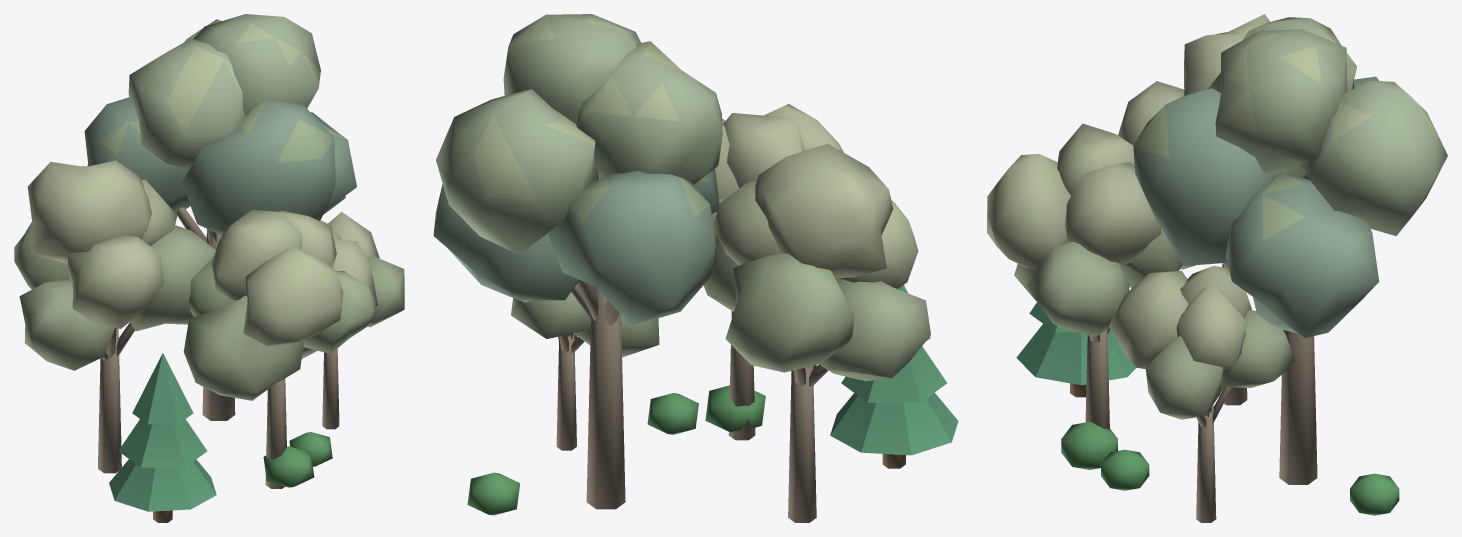
Rendered from terrain-forest-3.glb.
3 views of the same model, side by side, from view 1: azimuth 30°, elevation 25°; view 2: azimuth 150°, elevation 25°; view 3: azimuth 270°, elevation 25° (orthographic). The views are drawn at different scales.
Parts seen in each view (by area): view 1: terrain-forest-3; view 2: terrain-forest-3; view 3: terrain-forest-3.
Part boxes in pixels (x1,y1,x2,y2): terrain-forest-3: (14,14,404,522); terrain-forest-3: (433,14,958,522); terrain-forest-3: (987,14,1447,522).
Bounding box in the file's own units: 0.9092 × 0.9352 × 0.8497.
